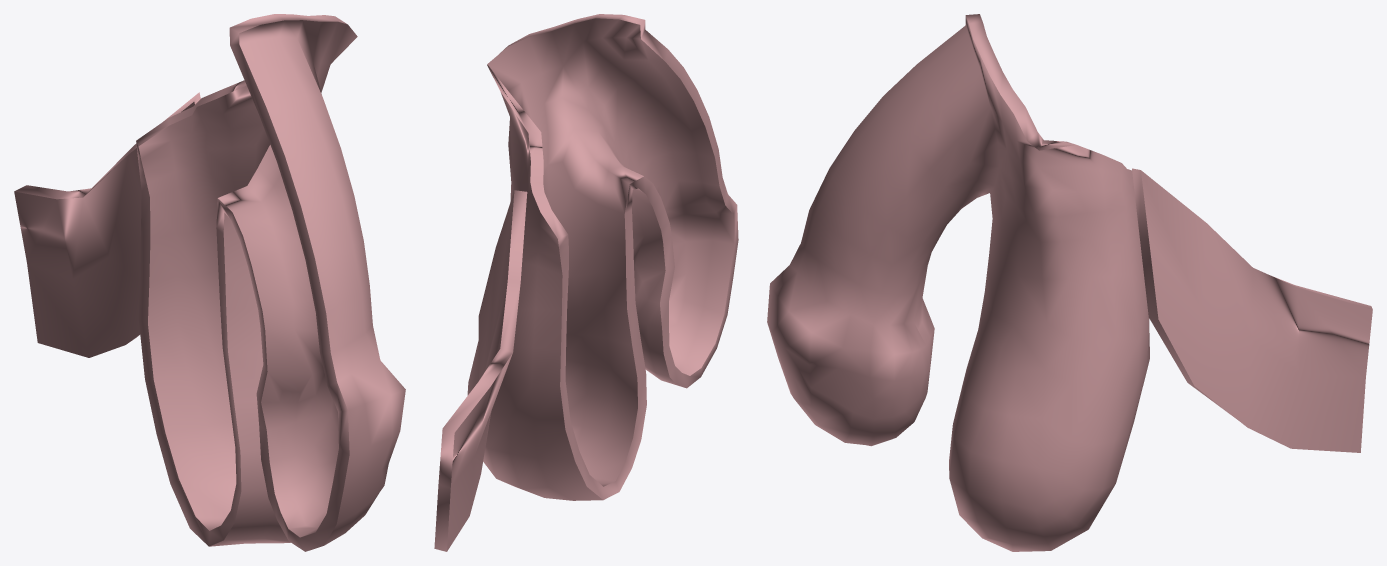
The picture shows the model from 3 angles, left to right: view 1: azimuth 30°, elevation 25°; view 2: azimuth 150°, elevation 25°; view 3: azimuth 270°, elevation 25°; orthographic projection. The views are drawn at different scales.
Visible parts, largest first — view 1: ZA_590d32383494c0fc; view 2: ZA_590d32383494c0fc; view 3: ZA_590d32383494c0fc.
Boxes of the visible parts, x1,y1,x2,y2 form: ZA_590d32383494c0fc: [14, 14, 405, 551]; ZA_590d32383494c0fc: [434, 14, 738, 551]; ZA_590d32383494c0fc: [767, 14, 1372, 551].
Bounding box in the file's own units: 0.035 × 0.1147 × 0.1272.
